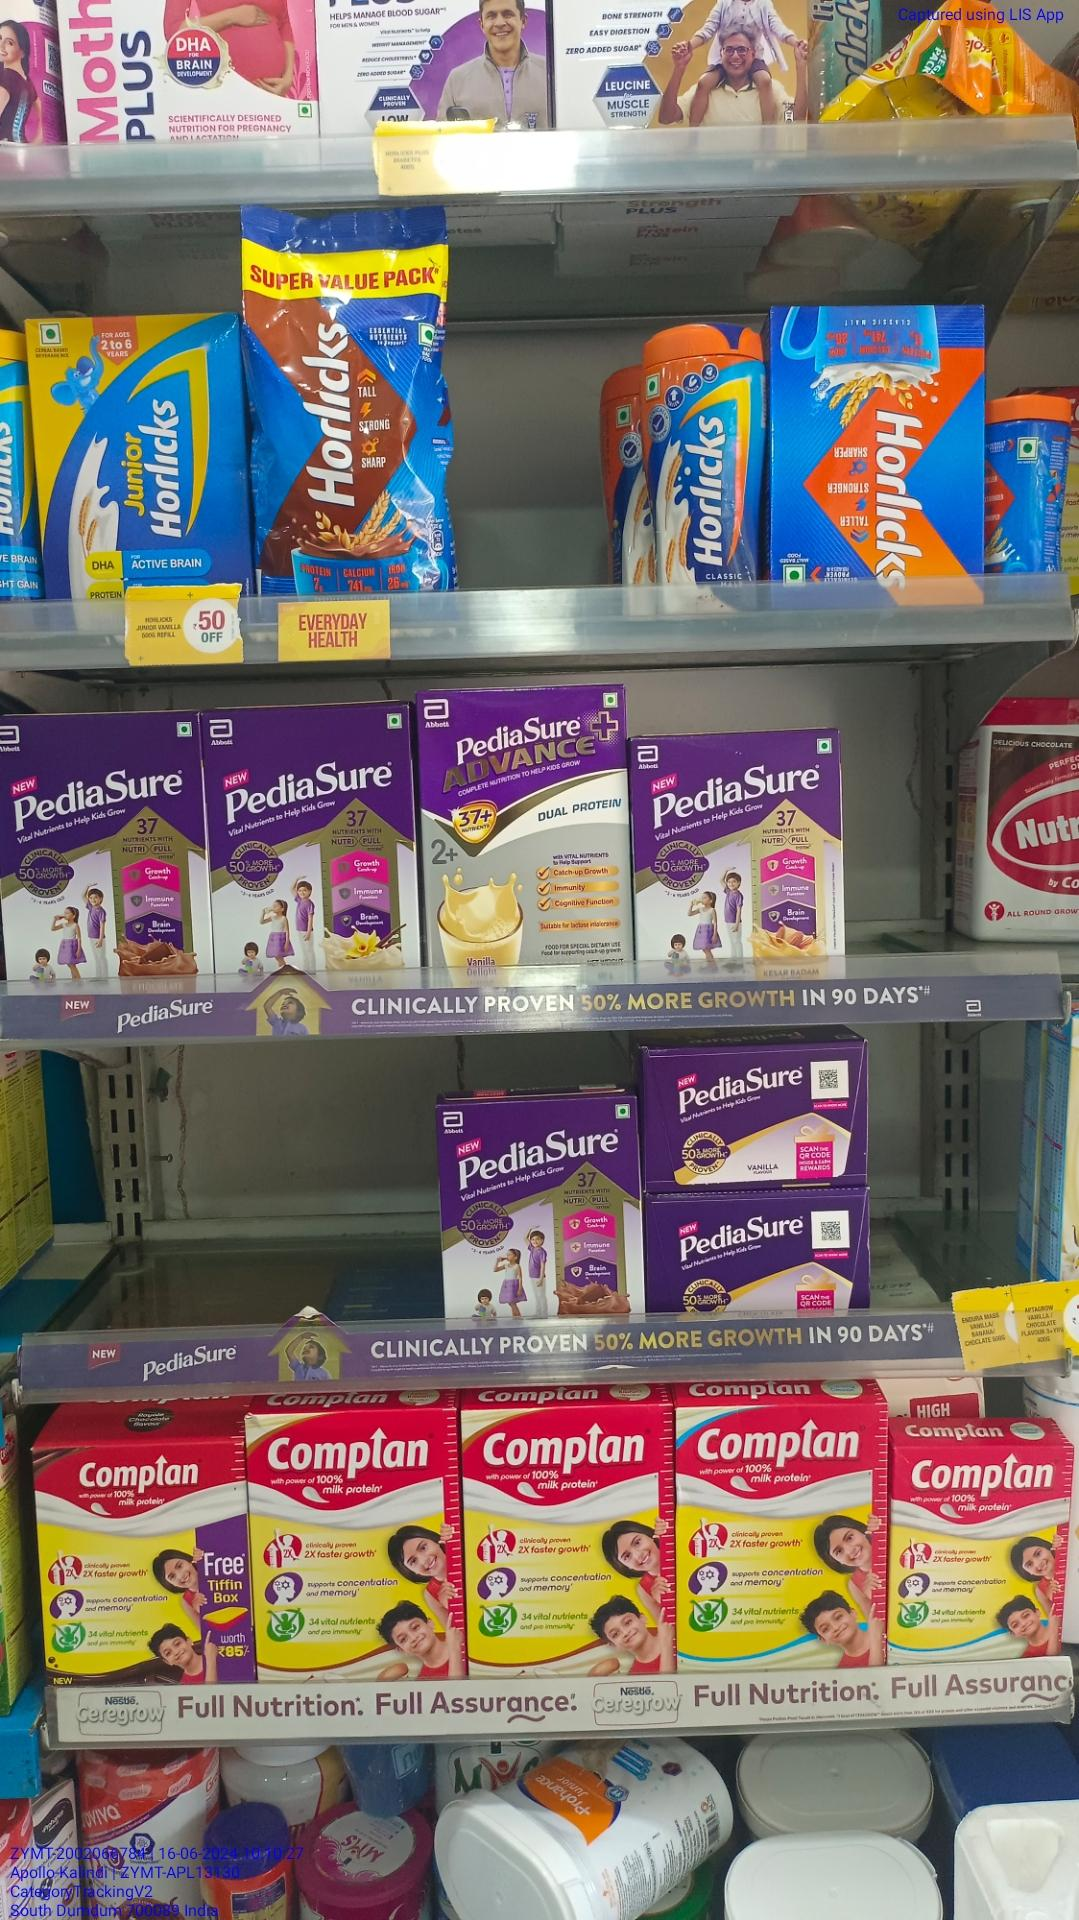COMPLAN_CREAMY_CLASSIC_500_G_PACK: (678, 1411, 885, 1668), (890, 1443, 1064, 1663)
HORLICK_CHOCOLATE_750_G_POUCH: (249, 212, 450, 593)
HORLICK_CLASSIC_MALT_500_G_JAR: (642, 326, 761, 615)
PEDIASURE_CHOCOLATE_500_G_PACK: (0, 715, 206, 994), (441, 1105, 641, 1327)
PEDIASURE_VANILLA_500_G_PACK: (211, 709, 418, 993)
